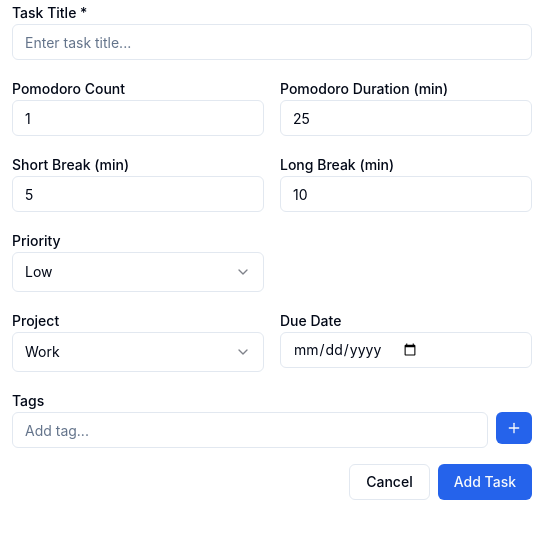
it: AddTaskForm › removes tags correctly
Type "important" into the field with placeholder "Add tag...". click: (250, 430)
box: [12,412,488,448]
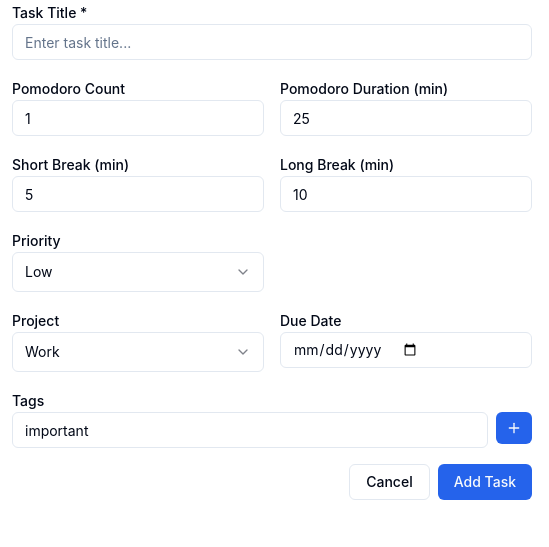
Click the button named "Add tag". click: (514, 428)
box: [496,412,532,444]
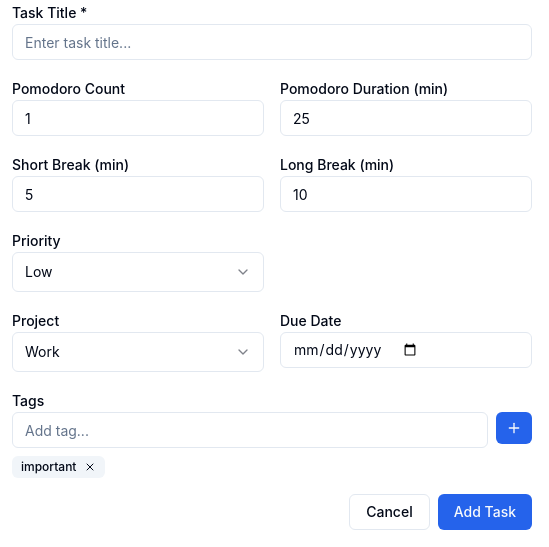
Click the button named "Remove tag important". click: (90, 467)
box: [84,461,96,473]
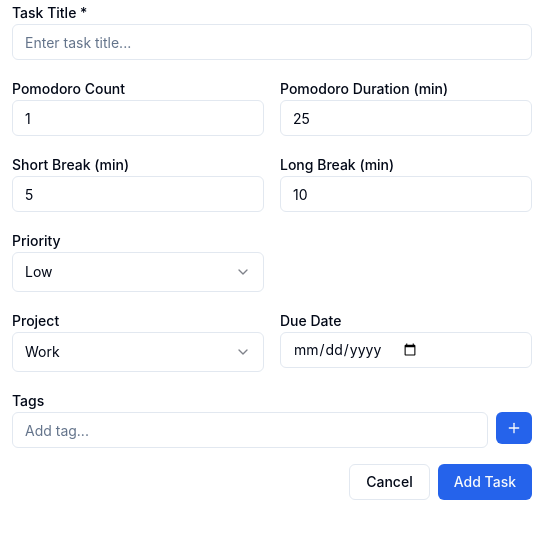
Expected: the text "important" is gone
